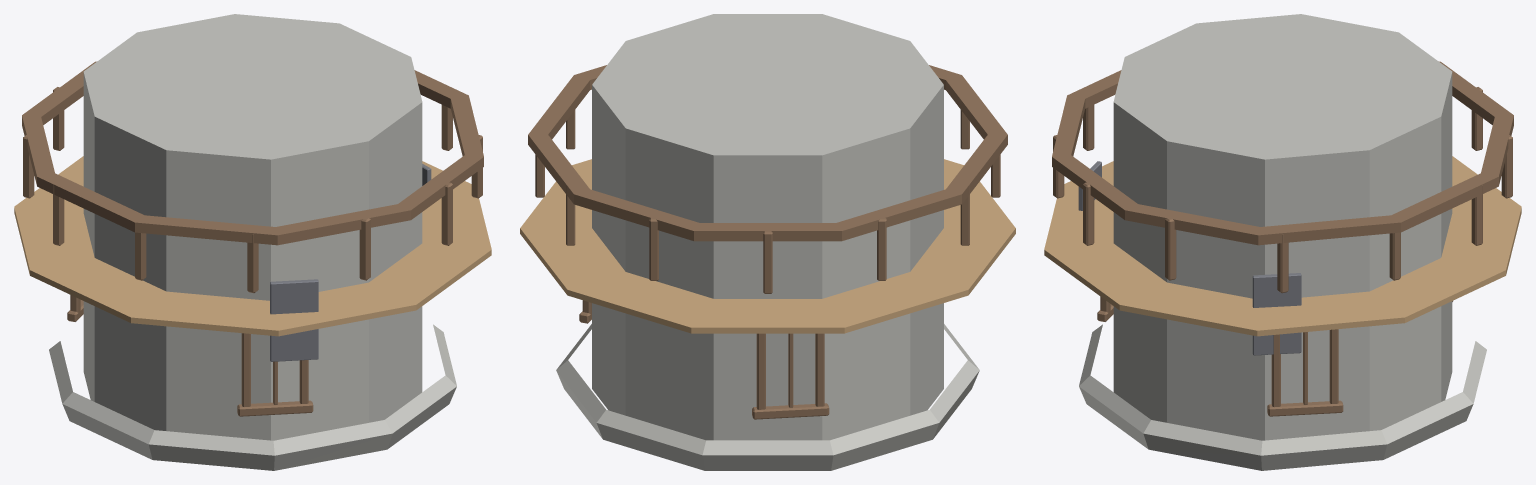
File: town_wizard_tower_mid.glb
The picture shows the model from 3 angles, left to right: view 1: azimuth 30°, elevation 25°; view 2: azimuth 150°, elevation 25°; view 3: azimuth 270°, elevation 25°; orthographic projection.
Parts seen in each view (by area): view 1: world; view 2: world; view 3: world.
Part boxes in pixels (x1,y1,x2,y2): world: (14,14,491,470); world: (520,14,1015,470); world: (1044,14,1521,470).
Bounding box in the file's own units: 2 × 1.36 × 1.97.
